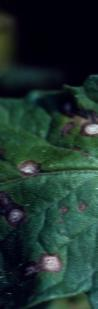Tomato Septoria leaf spot: (0, 74, 98, 309)
